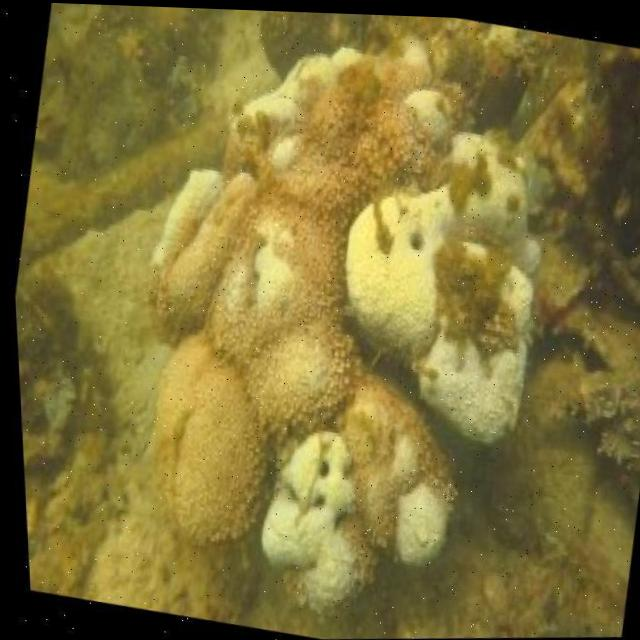Bleached Coral: (312, 61, 589, 452), (141, 4, 366, 329), (236, 367, 467, 632)
